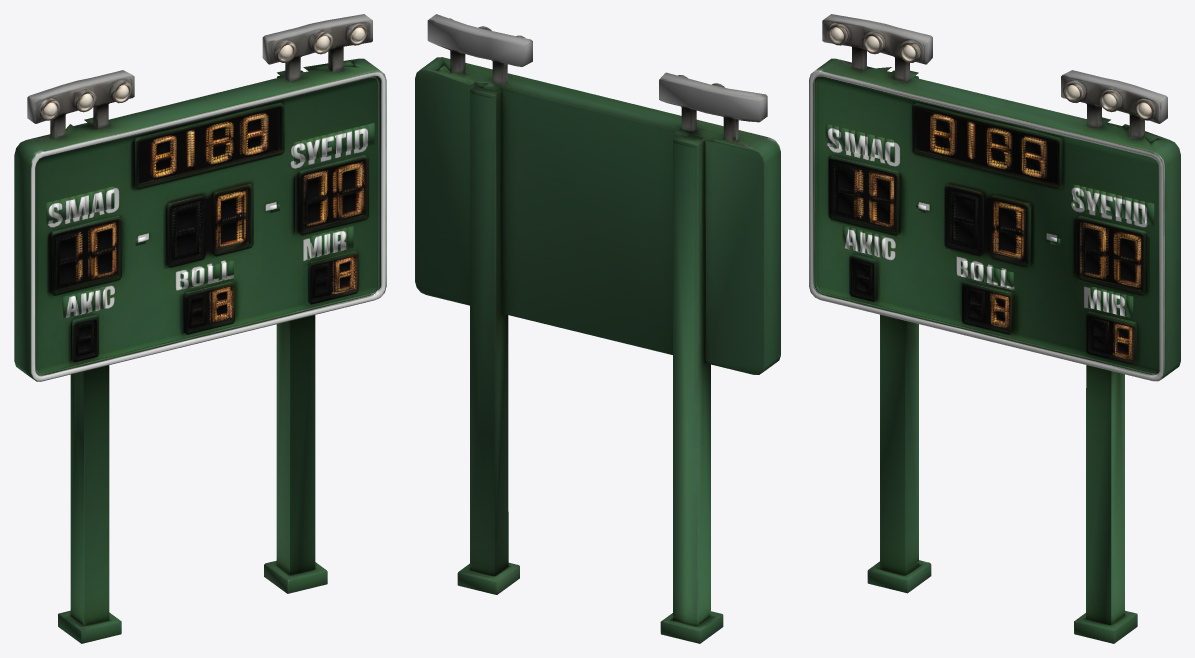
The model's file is stadium_scoreboard_8bd66713_v4.glb.
The picture shows the model from 3 angles, left to right: view 1: azimuth 30°, elevation 25°; view 2: azimuth 150°, elevation 25°; view 3: azimuth 330°, elevation 25°; orthographic projection.
Visible parts, largest first — view 1: texture_pbr_20250901; view 2: texture_pbr_20250901; view 3: texture_pbr_20250901.
Boxes of the visible parts, x1,y1,x2,y2 form: texture_pbr_20250901: (14, 14, 386, 643); texture_pbr_20250901: (415, 14, 780, 643); texture_pbr_20250901: (809, 14, 1180, 643).
Size of the model in its own units: 1.28 by 1.9 by 0.1791.
Materials: 1 (1 with a texture image).
